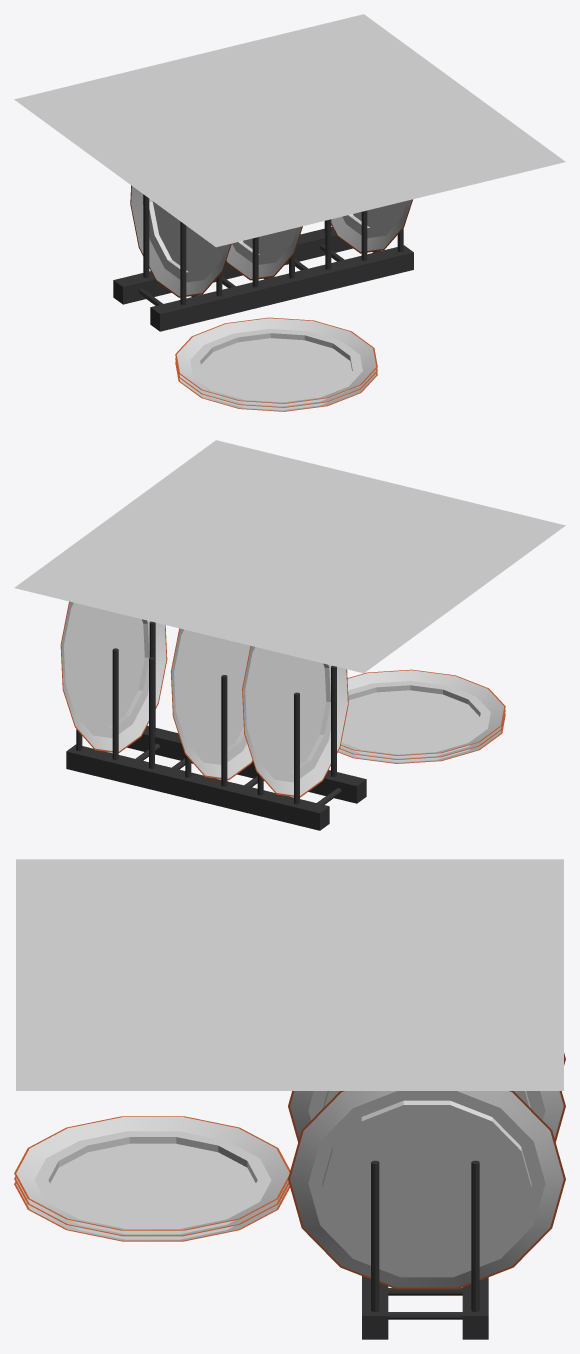
The model's file is PlateTable.fbx.
The picture shows the model from 3 angles, top to bottom: view 1: azimuth 30°, elevation 25°; view 2: azimuth 150°, elevation 25°; view 3: azimuth 270°, elevation 25°; orthographic projection. The views are drawn at different scales.
Parts seen in each view (by area): view 1: Plate1; view 2: Plate1; view 3: Plate1.
Part boxes in pixels (left/top/right/bottom): Plate1: left=14, top=14, right=565, bottom=411; Plate1: left=14, top=440, right=565, bottom=830; Plate1: left=14, top=859, right=565, bottom=1339.
Bounding box in the file's own units: 222 × 118 × 224.
